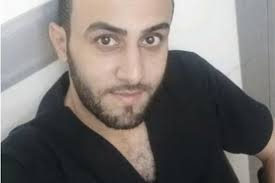middle_eastern_male: (70, 2, 168, 122)
